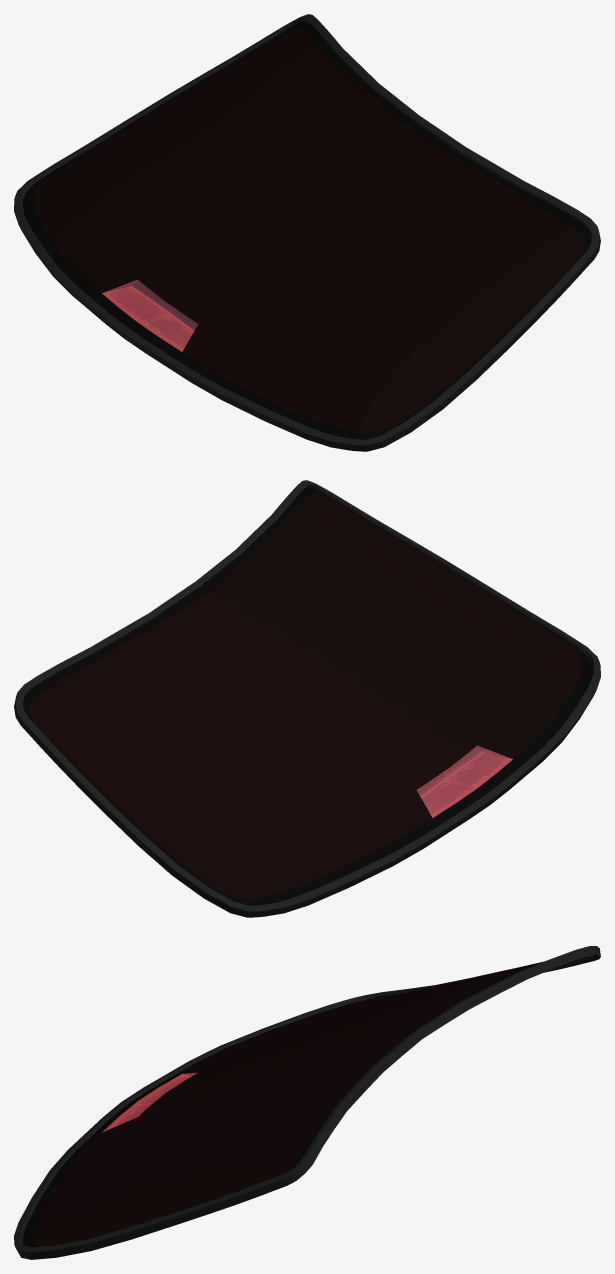
The picture shows the model from 3 angles, top to bottom: view 1: azimuth 30°, elevation 25°; view 2: azimuth 150°, elevation 25°; view 3: azimuth 330°, elevation 25°; orthographic projection.
Parts seen in each view (by area): view 1: Y173_365C_C_Y173_365C_C_3_DTaSI, Y173_365C_C_1_D_Y173_365C_C, Y173_365C_C_Y173_365C_C_2_DTaSI, Y173_365C_C_Y173_365C_C_5_N, Y173_365C_C_Y173_365C_C_4_DTaSI; view 2: Y173_365C_C_Y173_365C_C_3_DTaSI, Y173_365C_C_1_D_Y173_365C_C, Y173_365C_C_Y173_365C_C_2_DTaSI, Y173_365C_C_Y173_365C_C_5_N, Y173_365C_C_Y173_365C_C_4_DTaSI; view 3: Y173_365C_C_Y173_365C_C_3_DTaSI, Y173_365C_C_1_D_Y173_365C_C, Y173_365C_C_Y173_365C_C_2_DTaSI, Y173_365C_C_Y173_365C_C_5_N, Y173_365C_C_Y173_365C_C_4_DTaSI.
Part boxes in pixels (x1,y1,x2,y2): Y173_365C_C_Y173_365C_C_3_DTaSI: (33, 26, 586, 432); Y173_365C_C_1_D_Y173_365C_C: (14, 14, 600, 451); Y173_365C_C_Y173_365C_C_2_DTaSI: (22, 21, 591, 439); Y173_365C_C_Y173_365C_C_5_N: (102, 279, 197, 351); Y173_365C_C_Y173_365C_C_4_DTaSI: (102, 280, 197, 351); Y173_365C_C_Y173_365C_C_3_DTaSI: (28, 492, 581, 898); Y173_365C_C_1_D_Y173_365C_C: (14, 480, 600, 917); Y173_365C_C_Y173_365C_C_2_DTaSI: (23, 487, 592, 905); Y173_365C_C_Y173_365C_C_5_N: (417, 745, 512, 817); Y173_365C_C_Y173_365C_C_4_DTaSI: (417, 746, 512, 817); Y173_365C_C_Y173_365C_C_3_DTaSI: (33, 961, 544, 1245); Y173_365C_C_1_D_Y173_365C_C: (14, 946, 600, 1259); Y173_365C_C_Y173_365C_C_2_DTaSI: (22, 977, 521, 1247); Y173_365C_C_Y173_365C_C_5_N: (102, 1073, 197, 1132); Y173_365C_C_Y173_365C_C_4_DTaSI: (103, 1073, 196, 1131).
Bounding box in the file's own units: 83.22 × 37.56 × 154.
